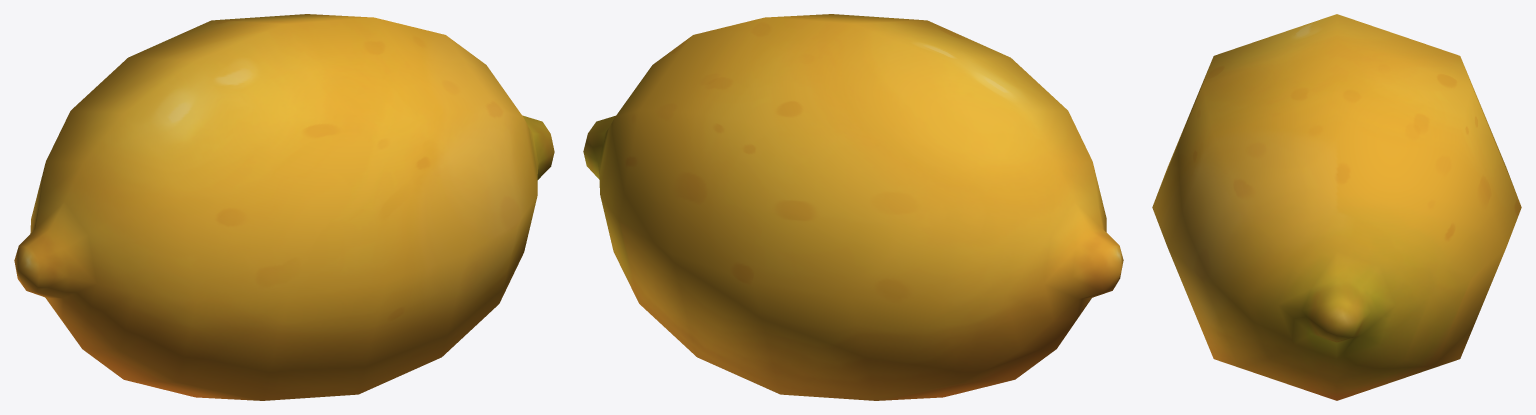
The model's file is lemon.fbx.
3 renders of one model, left to right at view 1: azimuth 30°, elevation 25°; view 2: azimuth 150°, elevation 25°; view 3: azimuth 270°, elevation 25°, orthographic. The views are drawn at different scales.
Parts seen in each view (by area): view 1: lemon; view 2: lemon; view 3: lemon.
Boxes of the visible parts, x1,y1,x2,y2 form: lemon: (14, 14, 554, 400); lemon: (583, 14, 1123, 400); lemon: (1152, 14, 1521, 400).
Bounding box in the file's own units: 20.42 × 13.37 × 13.37.
